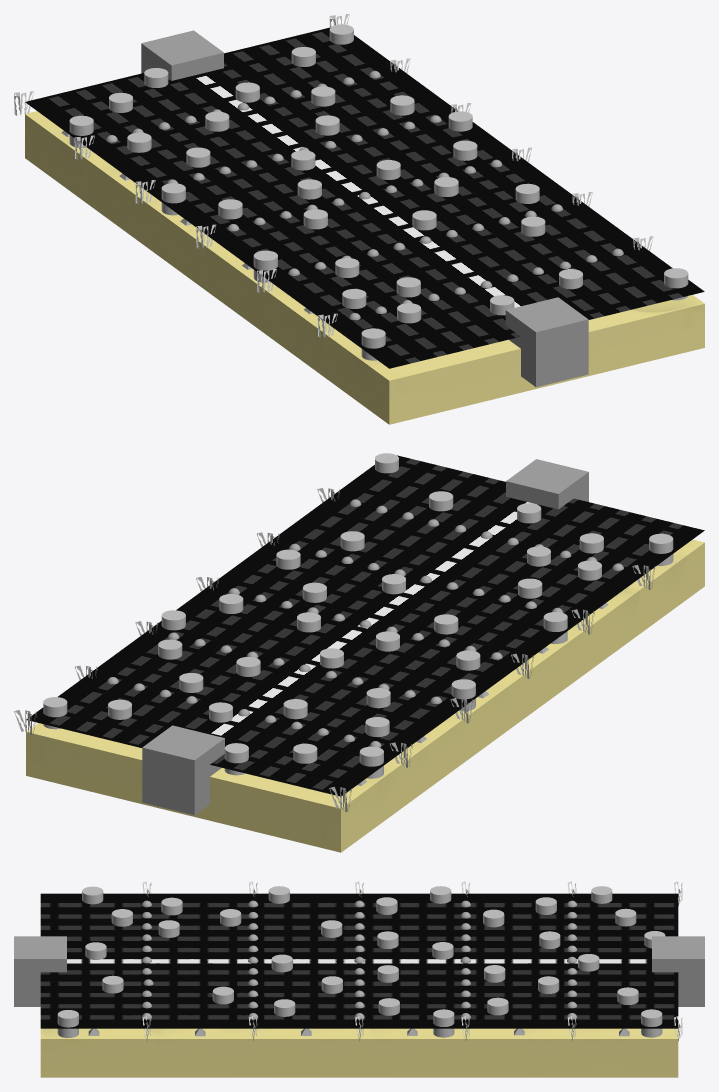
File: assets012_Streckenteil_gerade001.fbx
The picture shows the model from 3 angles, top to bottom: view 1: azimuth 30°, elevation 25°; view 2: azimuth 150°, elevation 25°; view 3: azimuth 270°, elevation 25°; orthographic projection. The views are drawn at different scales.
Visible parts, largest first — view 1: streckenteil_gerade_indicator_geo, streckenteil_gerade_geo, startpoint, endpoint; view 2: streckenteil_gerade_indicator_geo, streckenteil_gerade_geo, endpoint, startpoint; view 3: streckenteil_gerade_indicator_geo, streckenteil_gerade_geo, a (×12), b (×12), startpoint, endpoint, c (×6), d (×2).
Boxes of the visible parts, left/top/right/bottom form: streckenteil_gerade_indicator_geo: left=25, top=27, right=704, bottom=368; streckenteil_gerade_geo: left=25, top=111, right=704, bottom=424; startpoint: left=505, top=297, right=588, bottom=387; endpoint: left=141, top=30, right=223, bottom=80; streckenteil_gerade_indicator_geo: left=26, top=455, right=704, bottom=796; streckenteil_gerade_geo: left=26, top=539, right=704, bottom=852; endpoint: left=142, top=725, right=224, bottom=815; startpoint: left=506, top=459, right=588, bottom=509; streckenteil_gerade_indicator_geo: left=40, top=893, right=678, bottom=1028; streckenteil_gerade_geo: left=40, top=1028, right=678, bottom=1077; a (×12): left=57, top=886, right=398, bottom=1037; b (×12): left=111, top=886, right=638, bottom=1037; startpoint: left=14, top=936, right=66, bottom=1006; endpoint: left=652, top=936, right=704, bottom=1006; c (×6): left=430, top=886, right=662, bottom=1037; d (×2): left=591, top=886, right=636, bottom=926.
Bounding box in the file's own units: 32.03 × 6.5 × 65.
